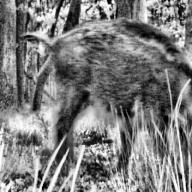boar: (47, 21, 192, 166)
